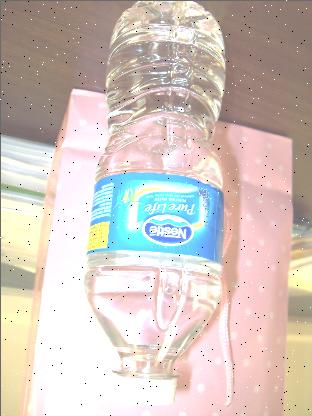Plastic Bottle: (75, 7, 229, 412)
